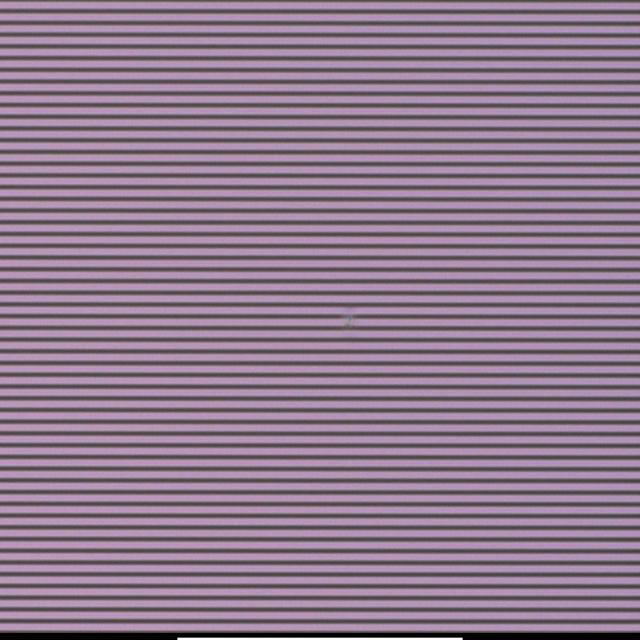nonvisual: (338, 310, 364, 332)
